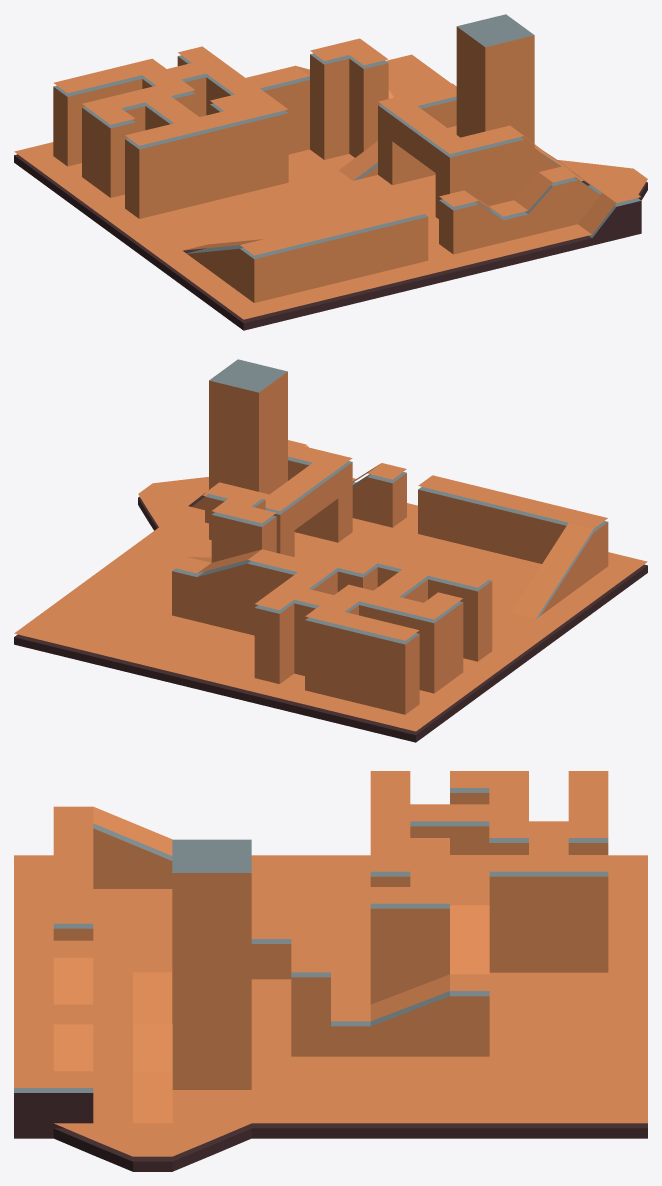
The model's file is test_map.glb.
3 views of the same model, one above another, from view 1: azimuth 30°, elevation 25°; view 2: azimuth 150°, elevation 25°; view 3: azimuth 270°, elevation 25° (orthographic). The views are drawn at different scales.
Visible parts, largest first — view 1: level, walkable; view 2: level, walkable; view 3: walkable, level.
Part boxes in pixels (x1,y1,x2,y2): level: [14, 14, 647, 330]; walkable: [14, 38, 647, 319]; level: [14, 359, 647, 742]; walkable: [14, 440, 647, 731]; walkable: [14, 771, 647, 1156]; level: [14, 788, 647, 1171].
Bounding box in the file's own units: 128 × 46 × 114.
